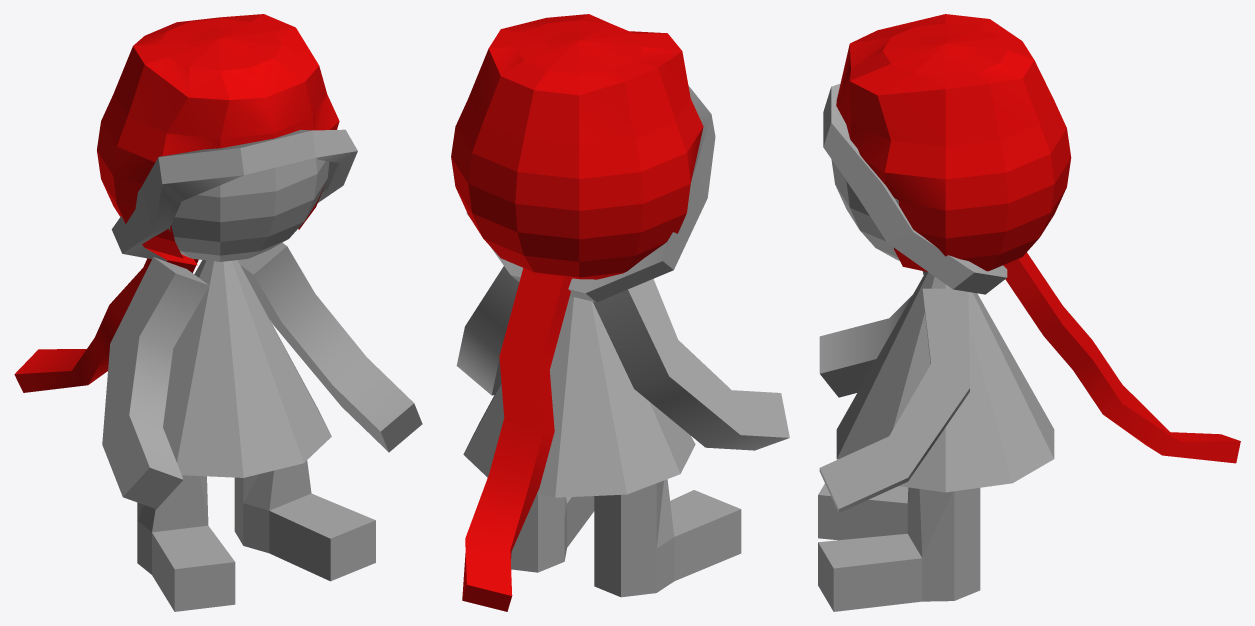
The model's file is New_guy.fbx.
3 renders of one model, left to right at view 1: azimuth 30°, elevation 25°; view 2: azimuth 150°, elevation 25°; view 3: azimuth 270°, elevation 25°, orthographic. The views are drawn at different scales.
Parts seen in each view (by area): view 1: hat, torso, R_arm, L_arm, L_leg, ring1, face, R_leg, scarf; view 2: hat, torso, scarf, R_arm, R_leg, ring1, L_leg, L_arm; view 3: hat, torso, L_leg, L_arm, scarf, ring1, R_arm, R_leg, face.
Part boxes in pixels (bbox=[...]): hat: bbox=[97, 14, 339, 265]; torso: bbox=[163, 260, 331, 477]; R_arm: bbox=[102, 257, 209, 509]; L_arm: bbox=[238, 242, 422, 452]; L_leg: bbox=[234, 460, 375, 581]; ring1: bbox=[111, 129, 357, 261]; face: bbox=[169, 157, 329, 261]; R_leg: bbox=[137, 475, 235, 611]; scarf: bbox=[14, 258, 198, 392]; hat: bbox=[451, 14, 703, 279]; torso: bbox=[463, 296, 695, 497]; scarf: bbox=[462, 268, 571, 611]; R_arm: bbox=[593, 279, 789, 450]; R_leg: bbox=[594, 479, 741, 597]; ring1: bbox=[466, 85, 715, 302]; L_leg: bbox=[511, 493, 594, 572]; L_arm: bbox=[456, 266, 519, 395]; hat: bbox=[836, 14, 1071, 271]; torso: bbox=[836, 271, 1054, 492]; L_leg: bbox=[818, 487, 980, 611]; L_arm: bbox=[819, 288, 969, 512]; scarf: bbox=[1003, 252, 1240, 463]; ring1: bbox=[823, 83, 1007, 294]; R_arm: bbox=[819, 271, 925, 397]; R_leg: bbox=[818, 484, 909, 540]; face: bbox=[831, 159, 899, 260].
Size of the model in its own units: 1.54 by 2.5 by 1.85.
